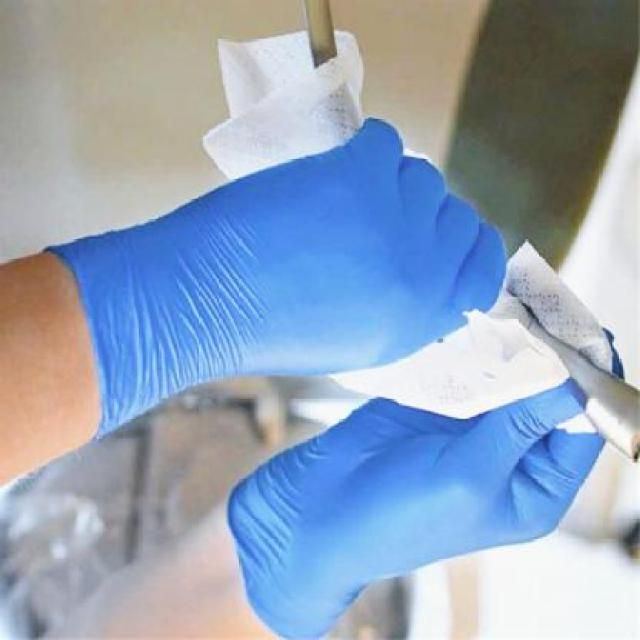gloved_hand: (69, 91, 536, 434), (207, 388, 622, 640)
